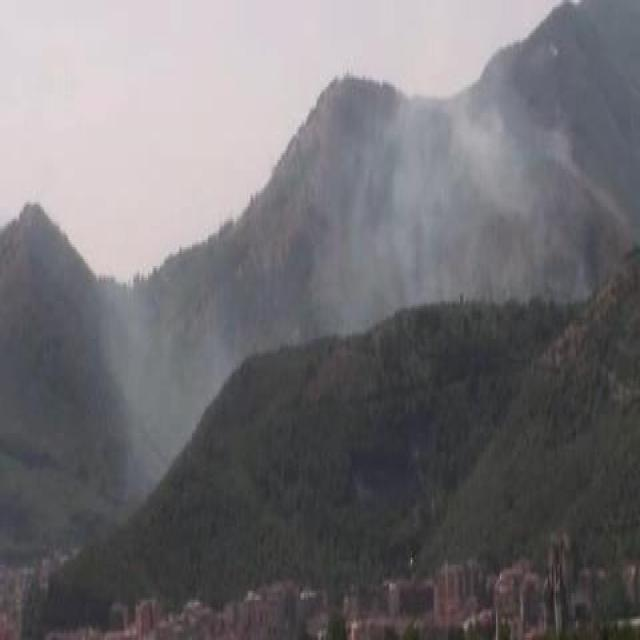Smoke: (346, 82, 547, 299)
